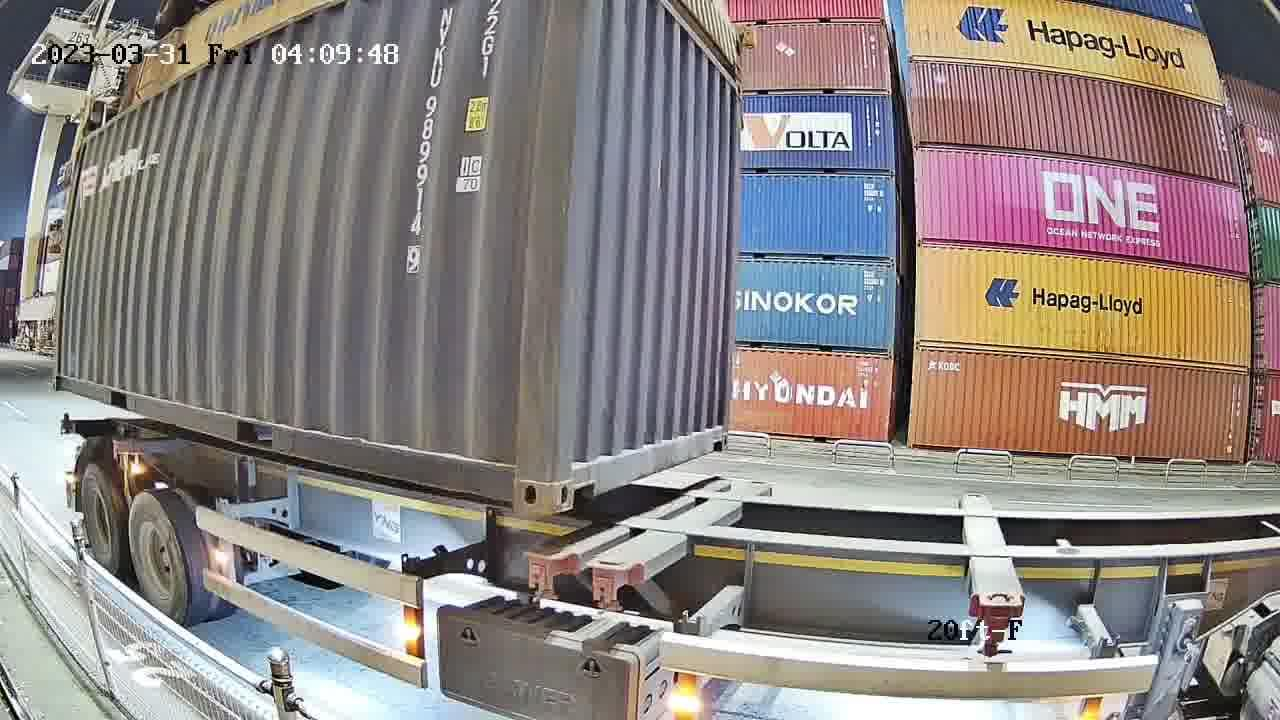Chassis: (589, 483, 771, 583), (530, 478, 733, 558)
Cone: (521, 548, 570, 608), (592, 558, 640, 616)
Hole_L: (549, 430, 604, 514)
Hole_R: (471, 431, 553, 516), (704, 414, 730, 454)
Tire: (128, 493, 188, 625), (79, 463, 121, 575)
